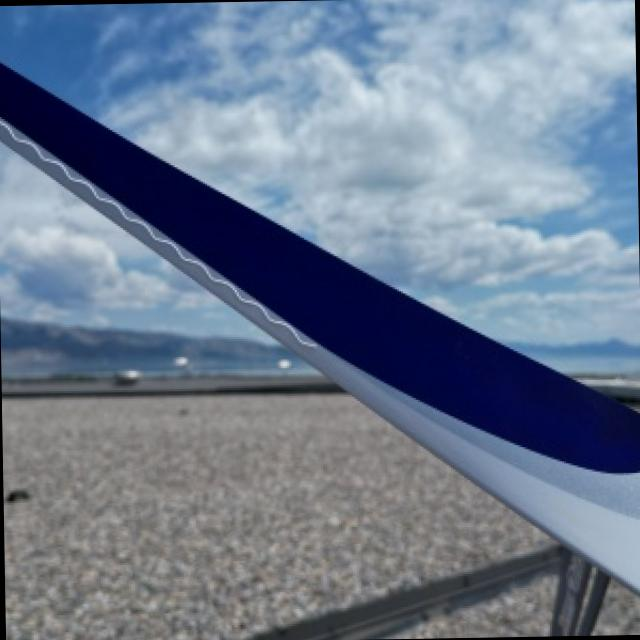healthy: (402, 578, 555, 636)
